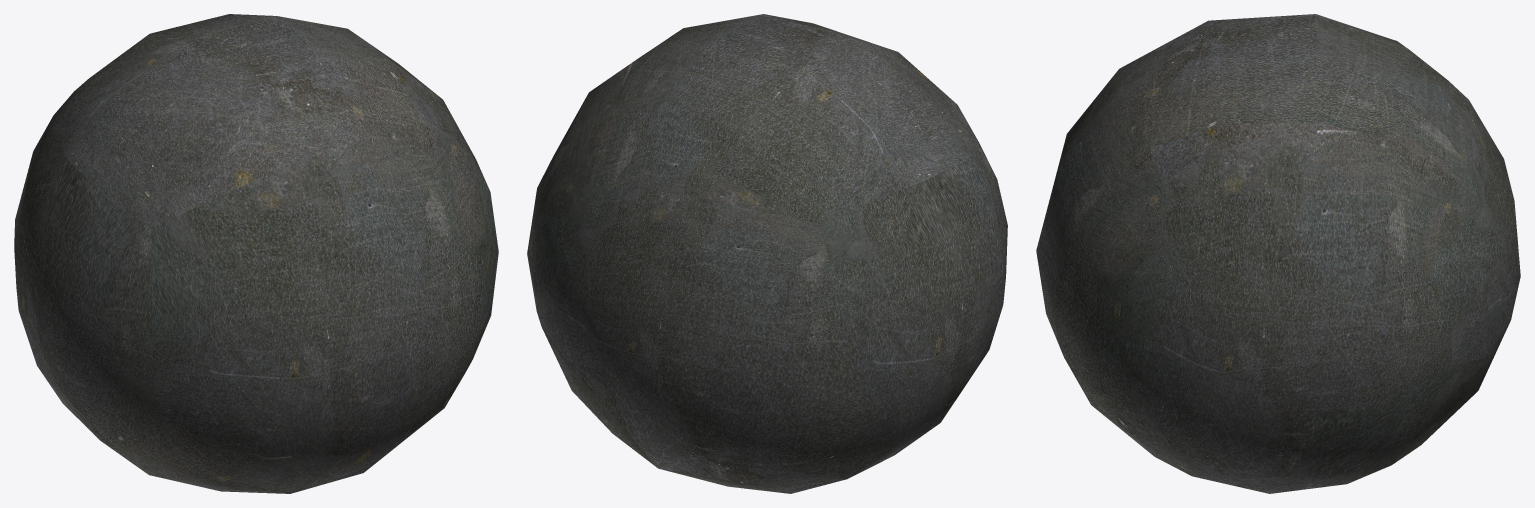
The model's file is Stone.fbx.
The picture shows the model from 3 angles, left to right: view 1: azimuth 30°, elevation 25°; view 2: azimuth 150°, elevation 25°; view 3: azimuth 270°, elevation 25°; orthographic projection.
Parts seen in each view (by area): view 1: Box001; view 2: Box001; view 3: Box001.
Boxes of the visible parts, x1,y1,x2,y2 form: Box001: (14,14,498,493); Box001: (527,14,1007,493); Box001: (1036,14,1520,493).
Bounding box in the file's own units: 130 × 130 × 128.
